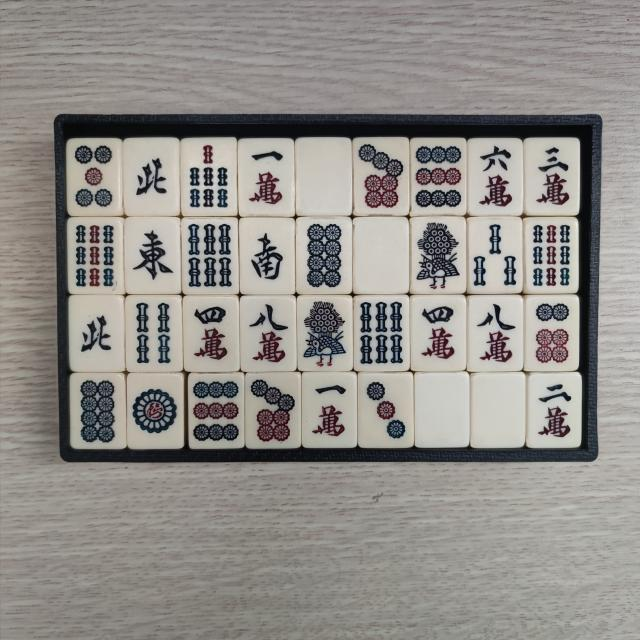hdw: (300, 146, 346, 212), (360, 224, 406, 288), (419, 380, 462, 443), (478, 382, 520, 444)
hwe: (128, 221, 176, 289)
hwn: (130, 146, 174, 212), (74, 304, 118, 368)
hws: (246, 223, 291, 290)
sb1: (415, 220, 463, 291), (301, 300, 348, 368)
sb3: (471, 222, 518, 291)
sb4: (130, 299, 177, 367)
sb6: (187, 220, 236, 290), (356, 302, 404, 369)
sb7: (186, 142, 234, 212)
sb9: (74, 222, 120, 291), (530, 222, 574, 290)
sc1: (245, 144, 290, 212), (307, 378, 351, 441)
sc2: (535, 380, 578, 446)
sc3: (531, 143, 575, 210)
sc4: (190, 303, 236, 369), (414, 303, 458, 368)
sc6: (473, 144, 517, 214)
sc8: (473, 299, 519, 367), (247, 302, 294, 368)
sd1: (130, 380, 180, 446)
sd3: (362, 380, 408, 446)
sd5: (71, 142, 116, 210)
sd6: (530, 300, 573, 367)
sd7: (358, 142, 407, 211), (251, 376, 298, 444)
sd8: (300, 222, 346, 292), (76, 377, 121, 445)
sd9: (413, 144, 462, 212), (192, 379, 240, 446)
